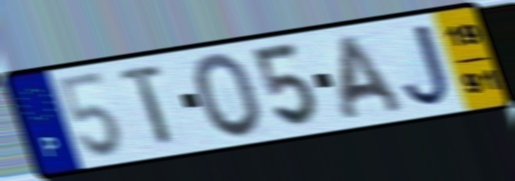5: (247, 39, 321, 131), (54, 68, 125, 162)
A: (337, 32, 409, 123)
J: (400, 20, 453, 111)
O: (191, 50, 266, 143)
T: (117, 60, 177, 151)
